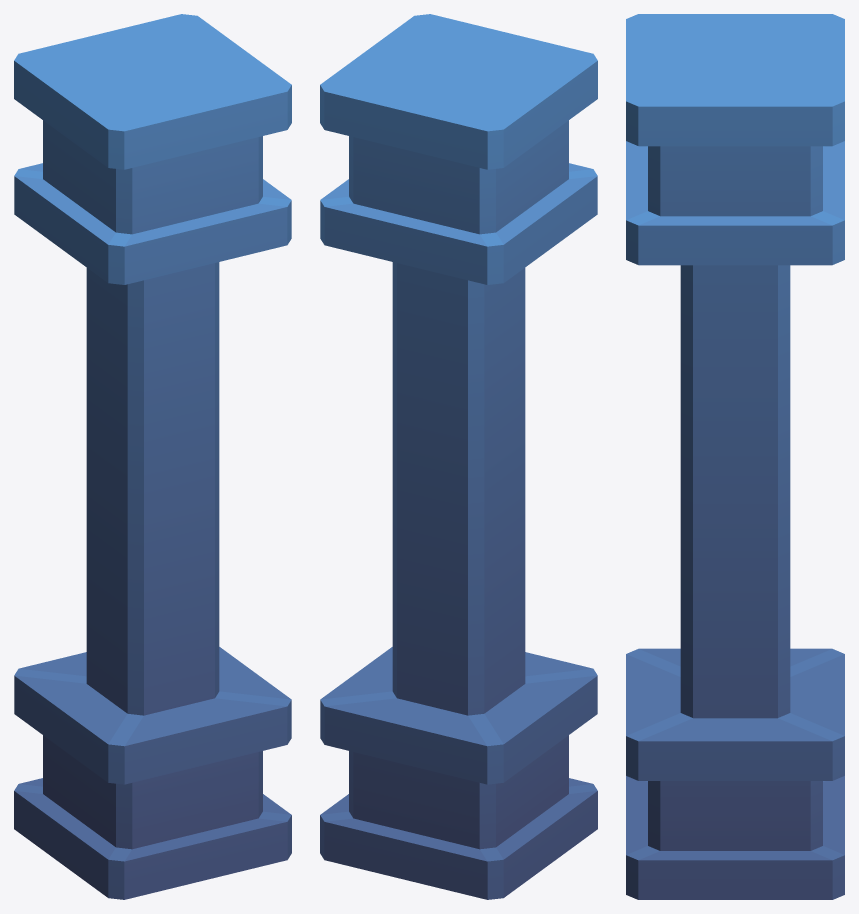
Rendered from corner_A.gltf.glb.
3 views of the same model, side by side, from view 1: azimuth 30°, elevation 25°; view 2: azimuth 150°, elevation 25°; view 3: azimuth 270°, elevation 25° (orthographic). The views are drawn at different scales.
Parts seen in each view (by area): view 1: corner_A; view 2: corner_A; view 3: corner_A.
Boxes of the visible parts, box(x1,y1,x2,y2) form: corner_A: box(14, 14, 291, 899); corner_A: box(320, 14, 597, 899); corner_A: box(626, 14, 844, 899).
Bounding box in the file's own units: 0.5 × 2 × 0.5.
Materials: 1 (1 with a texture image).
